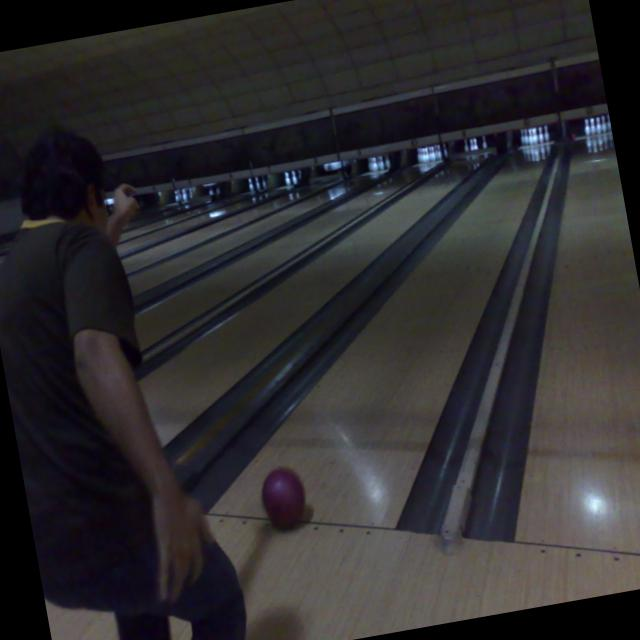Ball: (256, 462, 310, 534)
